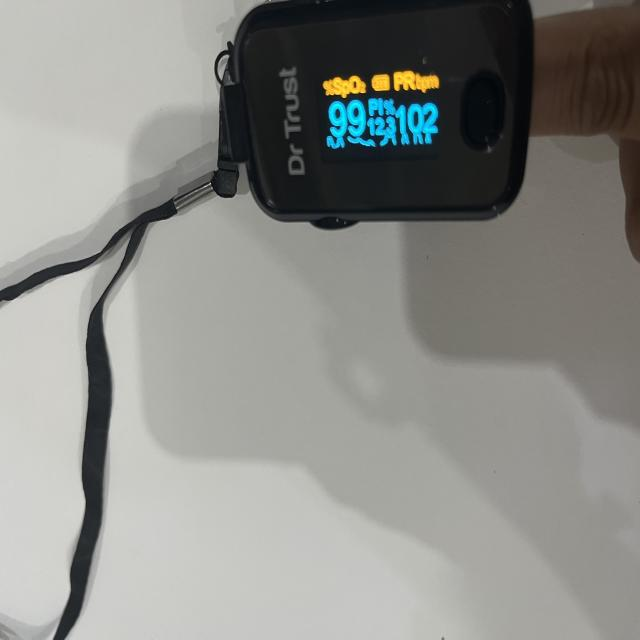spo2: (215, 0, 536, 232)
